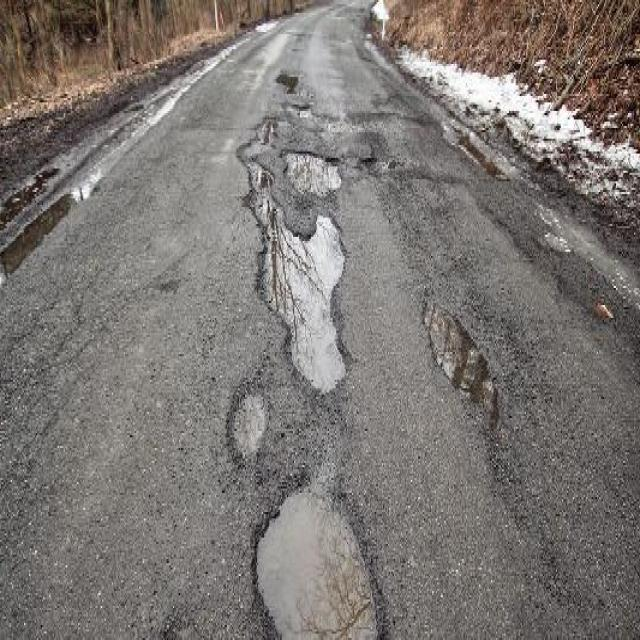pothole: (248, 476, 386, 638), (254, 211, 348, 393), (419, 290, 502, 429), (239, 108, 281, 215), (227, 382, 269, 465), (280, 145, 344, 196), (283, 98, 317, 120)
